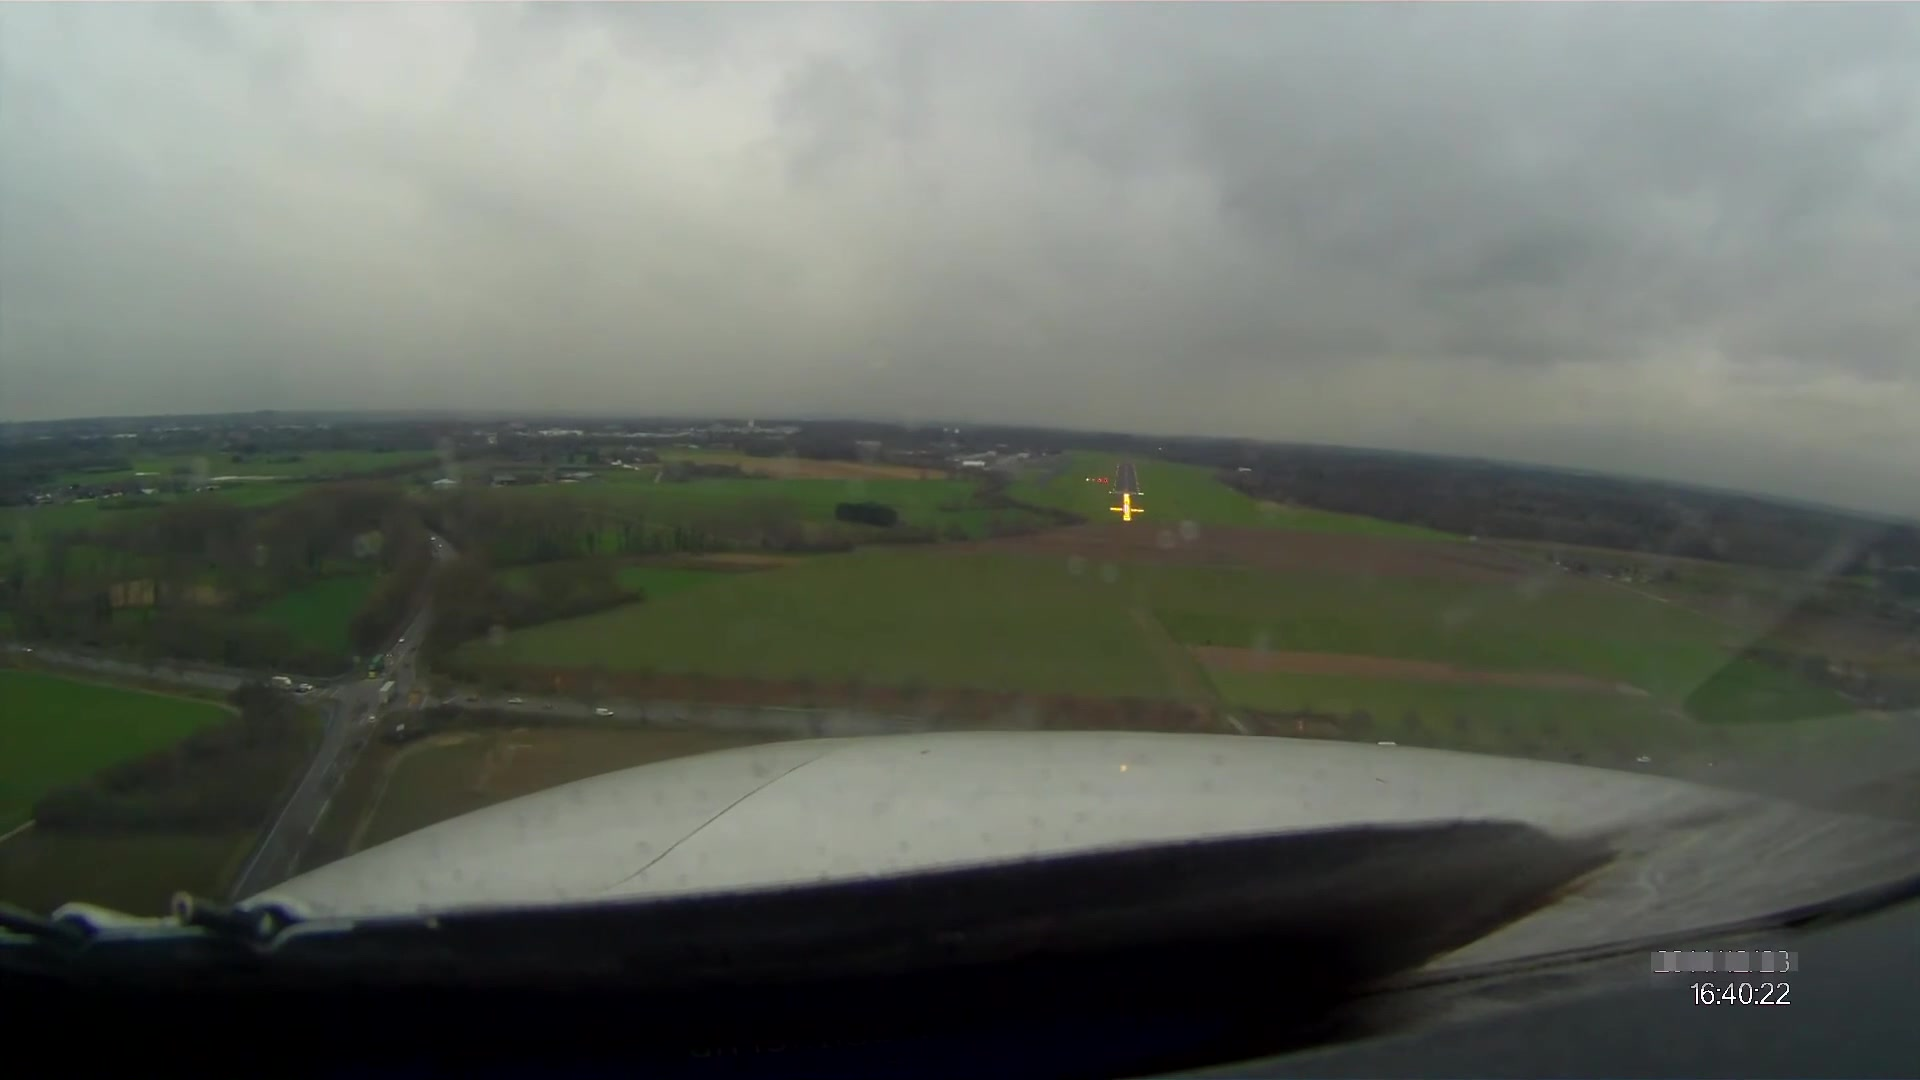runway: (1110, 463, 1141, 495)
